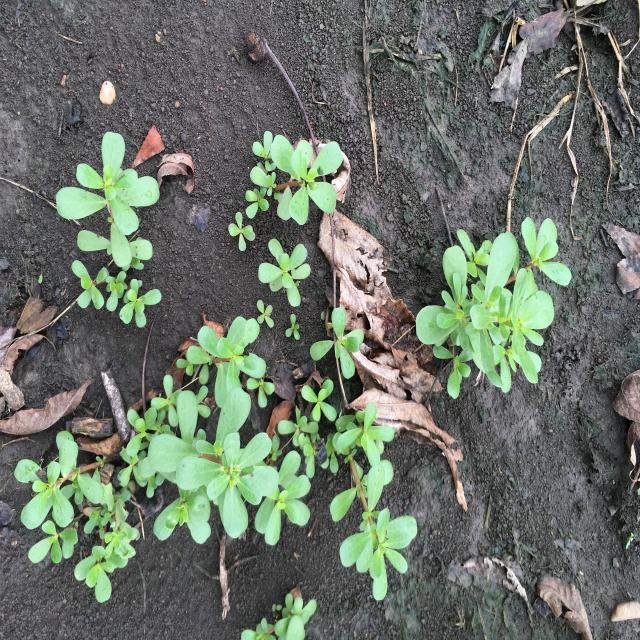Purslane: (14, 316, 337, 604), (416, 217, 572, 399), (325, 403, 418, 601), (56, 131, 160, 272), (245, 131, 343, 225), (71, 260, 162, 328), (310, 308, 364, 380), (258, 238, 311, 307), (240, 593, 317, 640), (228, 212, 255, 251), (257, 300, 274, 328), (286, 314, 300, 340)
